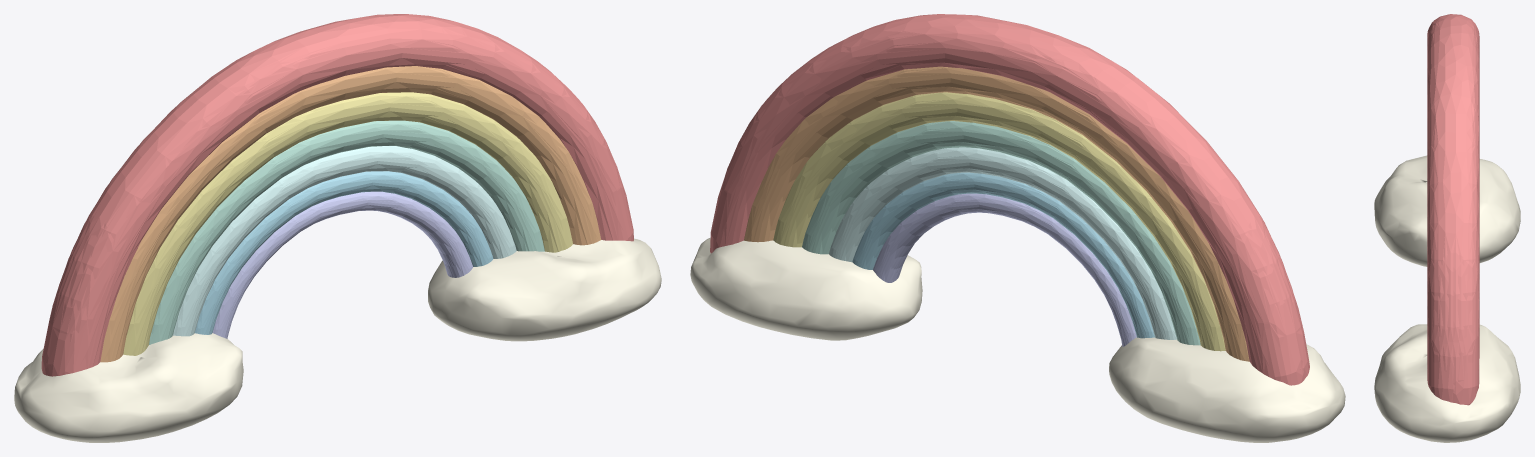
Rendered from gate-rainbow.gltf.
The picture shows the model from 3 angles, left to right: view 1: azimuth 30°, elevation 25°; view 2: azimuth 150°, elevation 25°; view 3: azimuth 270°, elevation 25°; orthographic projection. The views are drawn at different scales.
Visible parts, largest first — view 1: Cube.101, Cube.088, Cube.102, Cube.107, Cube.103, Cube.100, Cube.104, Cube.105, Cube.099; view 2: Cube.101, Cube.102, Cube.088, Cube.103, Cube.107, Cube.100, Cube.104, Cube.105, Cube.099; view 3: Cube.101, Cube.107, Cube.088.
Boxes of the visible parts, x1=… form: Cube.101: x1=41, y1=14, x2=633, y2=376; Cube.088: x1=14, y1=333, x2=243, y2=442; Cube.102: x1=100, y1=66, x2=601, y2=362; Cube.107: x1=428, y1=238, x2=661, y2=341; Cube.103: x1=123, y1=92, x2=572, y2=355; Cube.100: x1=149, y1=120, x2=544, y2=344; Cube.104: x1=173, y1=146, x2=516, y2=336; Cube.105: x1=195, y1=171, x2=493, y2=334; Cube.099: x1=212, y1=191, x2=472, y2=338; Cube.101: x1=710, y1=14, x2=1309, y2=385; Cube.102: x1=744, y1=66, x2=1249, y2=361; Cube.088: x1=1109, y1=337, x2=1345, y2=442; Cube.103: x1=773, y1=92, x2=1225, y2=351; Cube.107: x1=690, y1=237, x2=922, y2=340; Cube.100: x1=802, y1=121, x2=1200, y2=345; Cube.104: x1=829, y1=147, x2=1176, y2=339; Cube.105: x1=852, y1=172, x2=1154, y2=338; Cube.099: x1=873, y1=193, x2=1136, y2=346; Cube.101: x1=1427, y1=14, x2=1479, y2=405; Cube.107: x1=1374, y1=324, x2=1520, y2=442; Cube.088: x1=1374, y1=155, x2=1520, y2=266.
Size of the model in its own units: 35.2 by 18.41 by 8.37.
